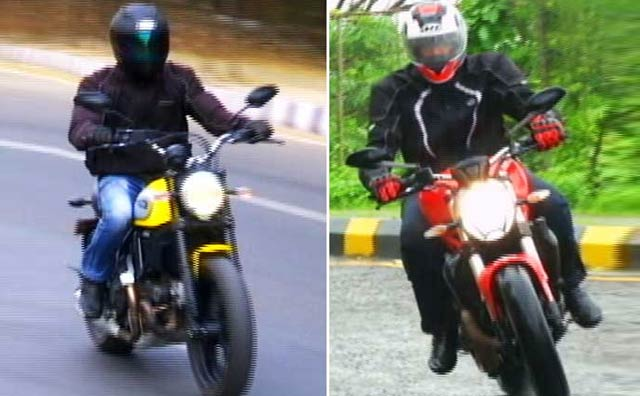helmet: (102, 1, 186, 65), (401, 2, 467, 82)
